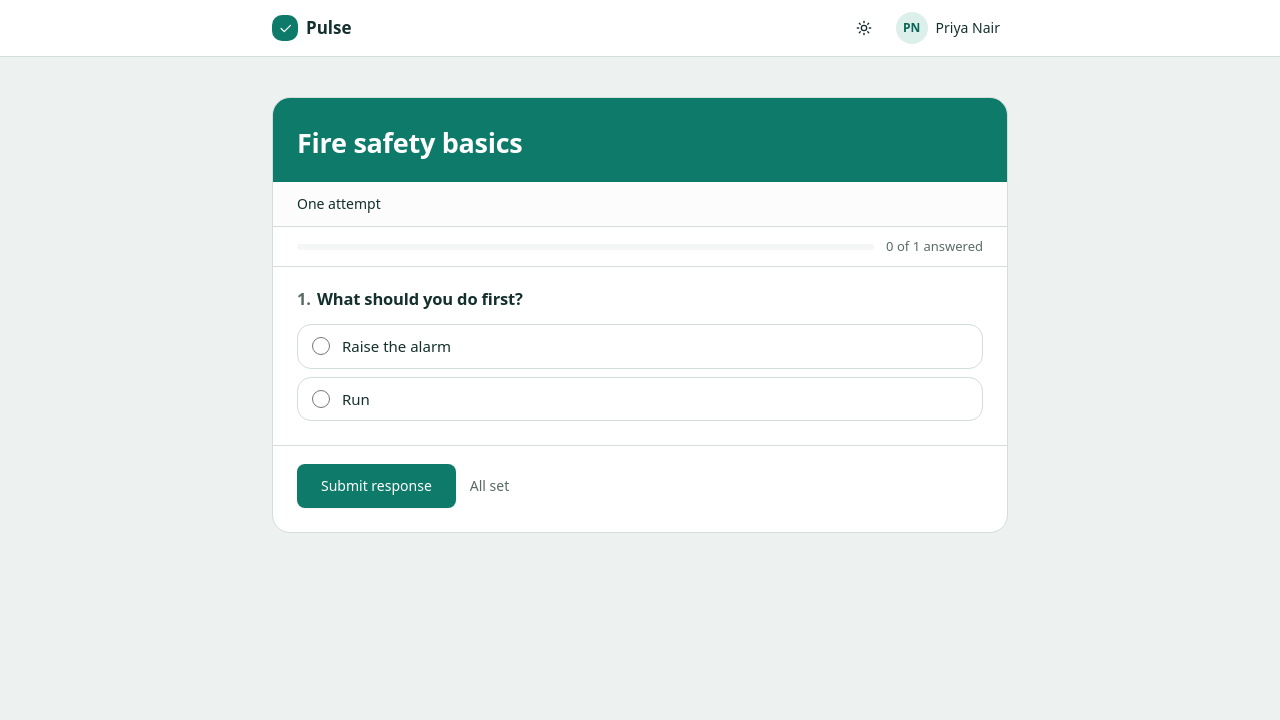
Test case: taking a scored training › a hidden score just confirms the submission
Expected: the text "One attempt" is shown, [273, 182, 1007, 227]
Click the button "Submit response": point(376, 486) [297, 464, 456, 508]
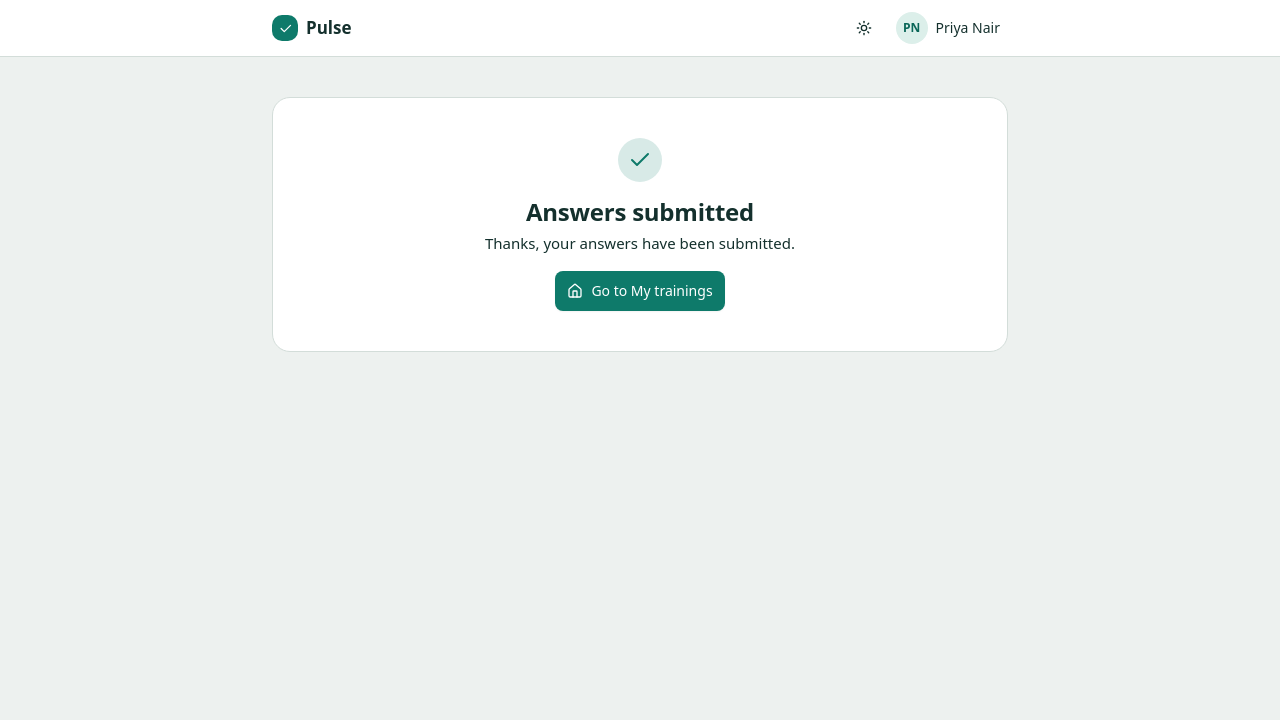
Expected: the heading "Answers submitted" is shown, [526, 195, 754, 228]
